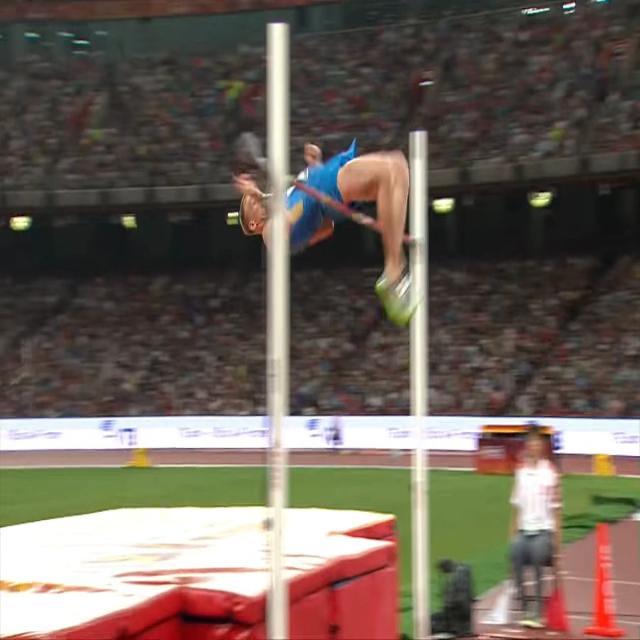jump: (241, 142, 421, 324)
